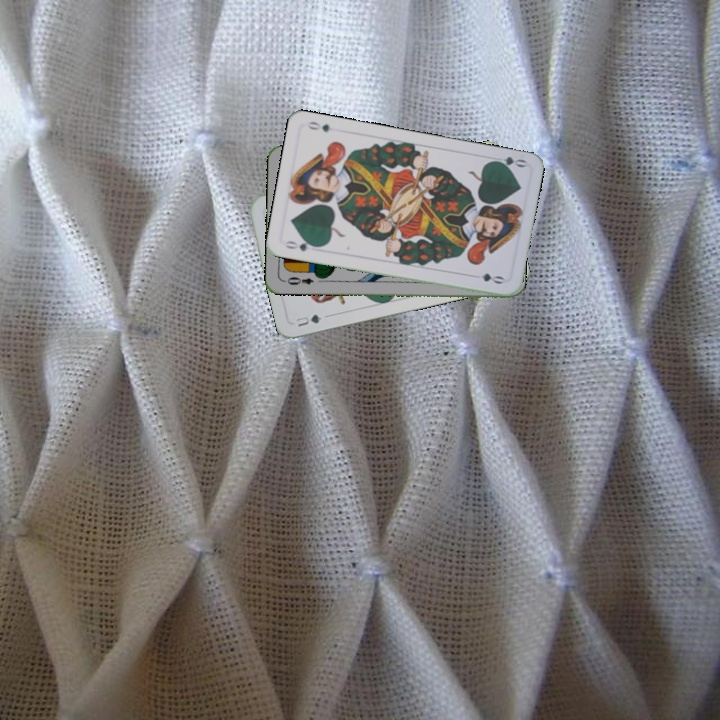EO: (280, 273, 316, 288)
GO: (487, 152, 528, 171), (281, 237, 321, 254)
GU: (292, 310, 324, 329)
